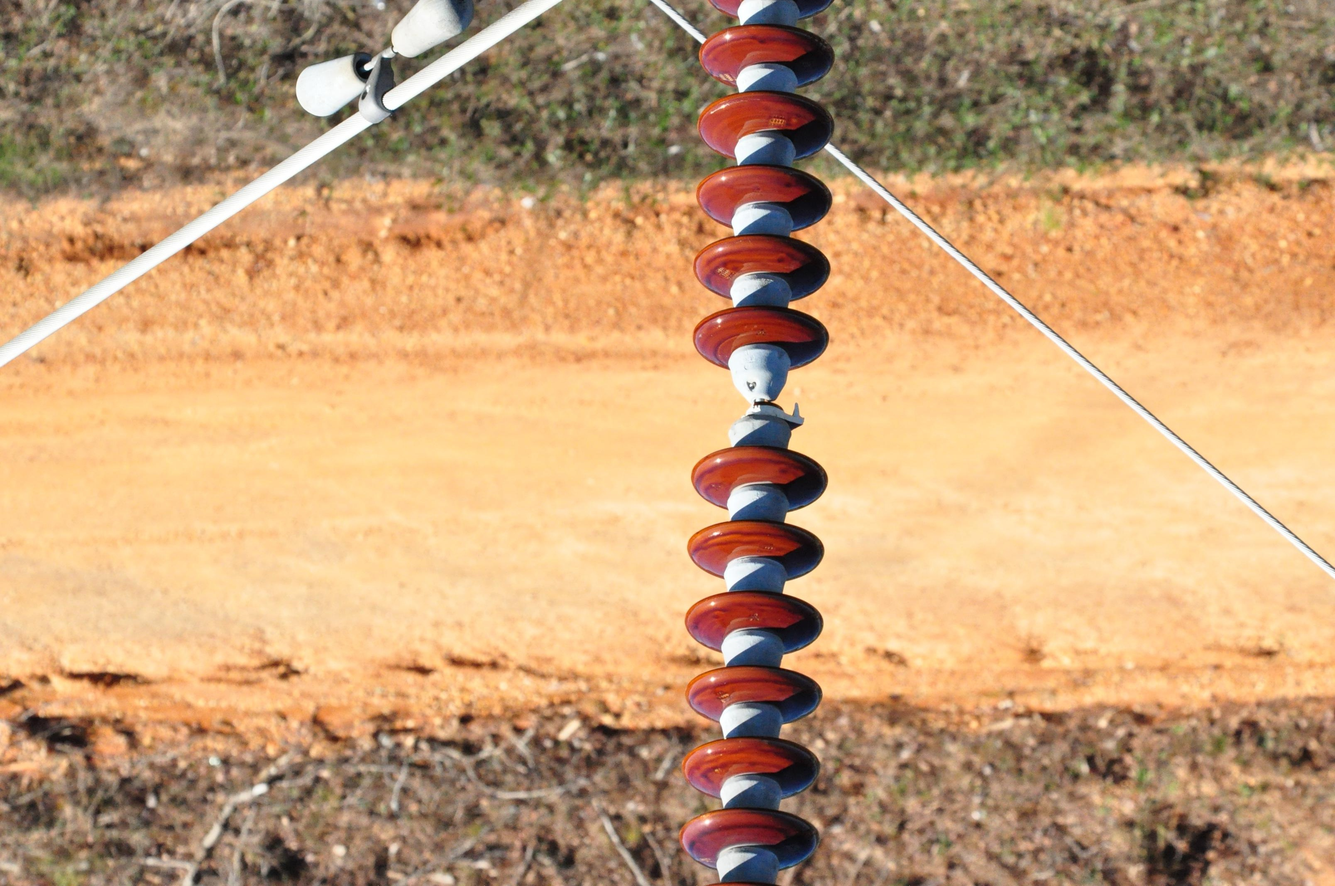damaged: (722, 363, 804, 435)
hammer: (296, 0, 479, 129)
insulator: (682, 0, 837, 884)
